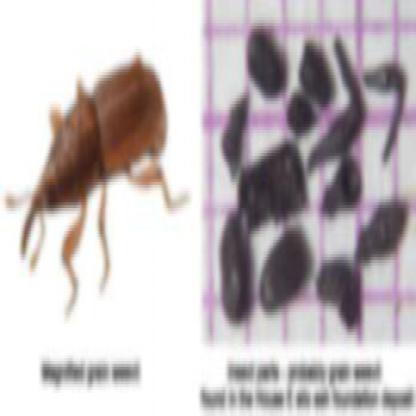ash weevil: (2, 61, 171, 320)
